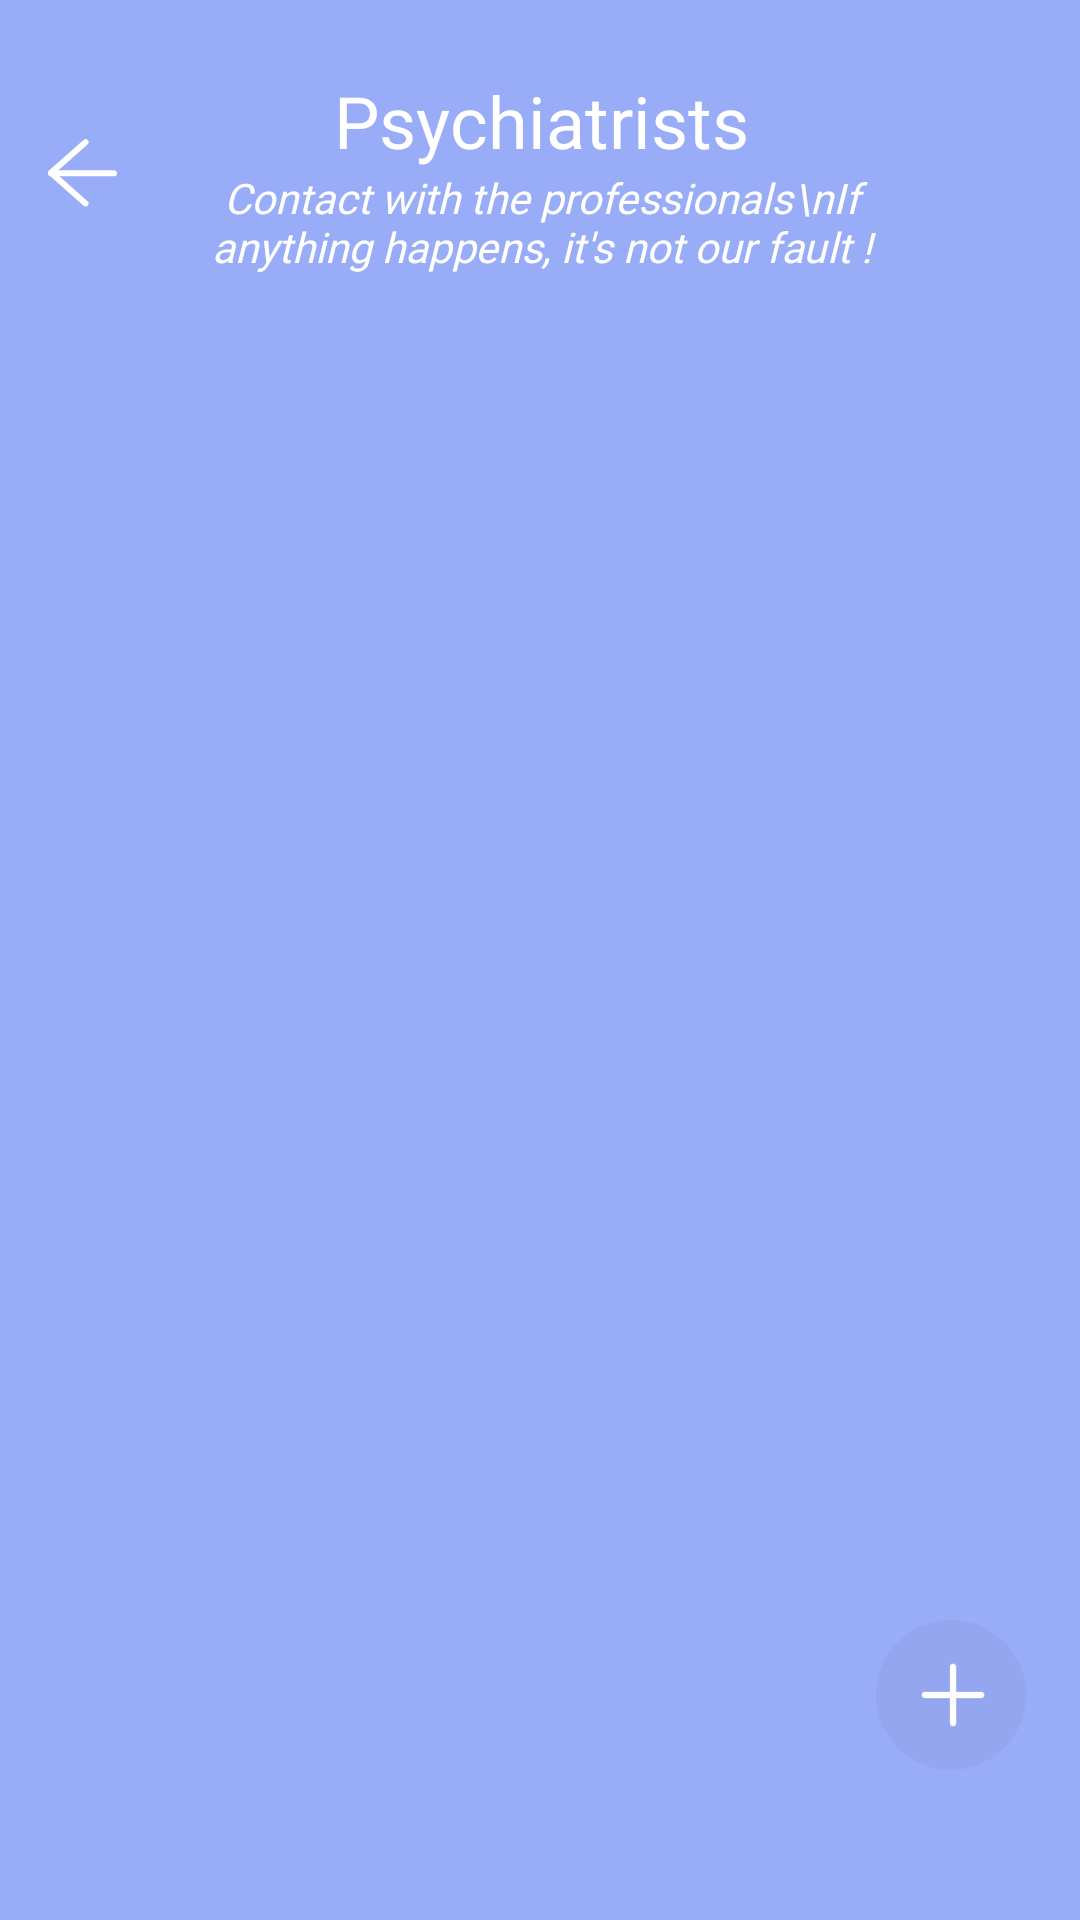

Point at icon controls on the screen. Image size 1080 x 1920, points as [x,y].
add room: [951,1695]
